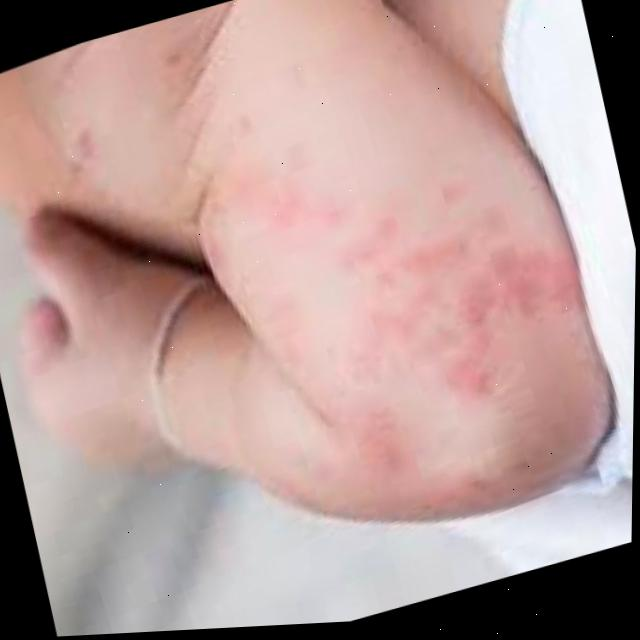Eczema: (268, 140, 581, 449)
